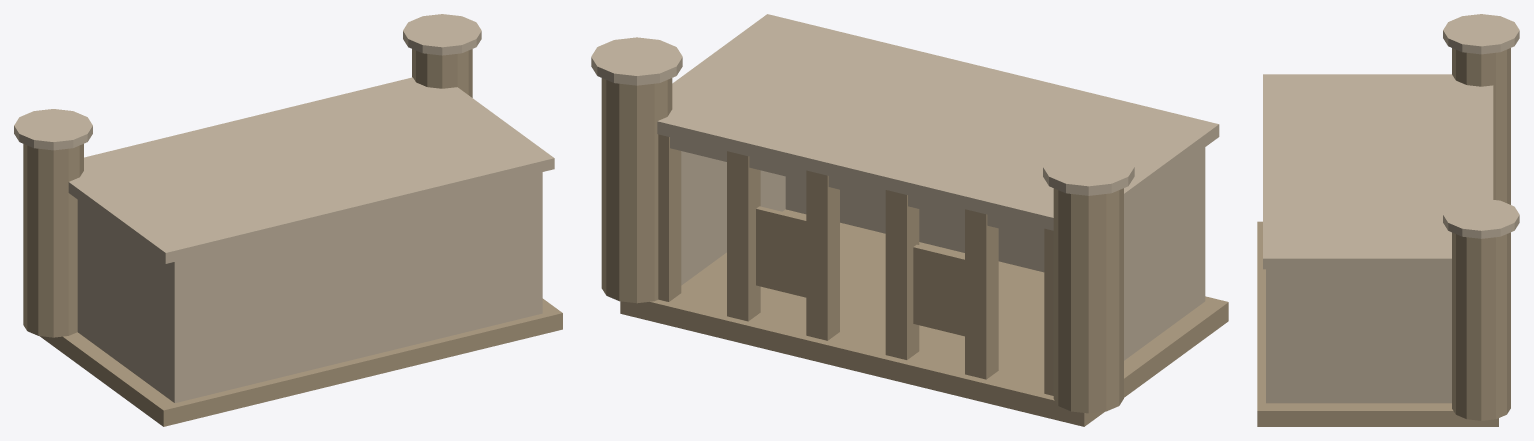
Rendered from sidi_saiyyed.glb.
The picture shows the model from 3 angles, left to right: view 1: azimuth 30°, elevation 25°; view 2: azimuth 150°, elevation 25°; view 3: azimuth 270°, elevation 25°; orthographic projection. The views are drawn at different scales.
Visible parts, largest first — view 1: geometry_0; view 2: geometry_0; view 3: geometry_0.
Part boxes in pixels (<box>): geometry_0: <box>14,14,562,426</box>; geometry_0: <box>591,14,1228,426</box>; geometry_0: <box>1257,14,1519,426</box>.
Bounding box in the file's own units: 17.4 × 7.85 × 8.9.
